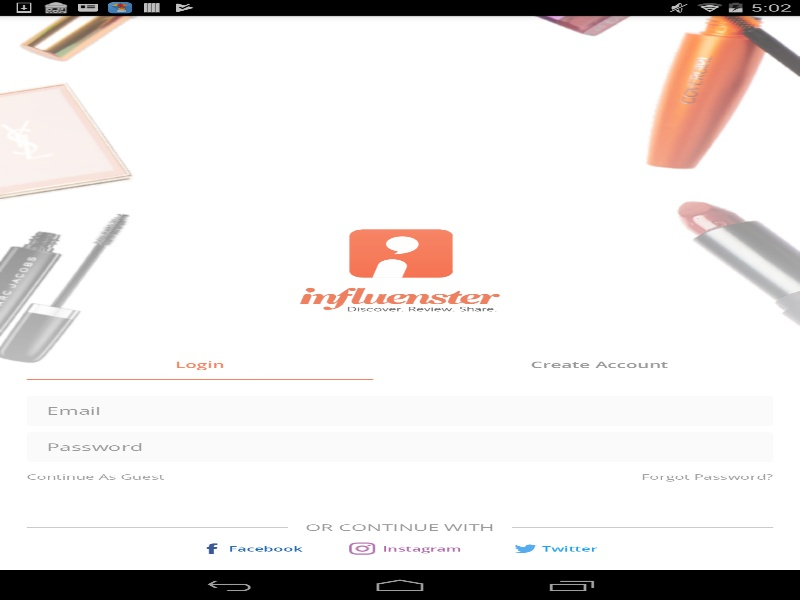Input: (26, 395, 773, 425), (26, 432, 773, 462)
